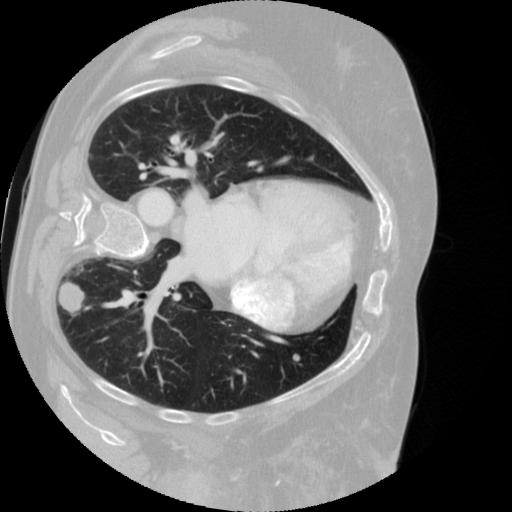nodule: (290, 353, 305, 368)
